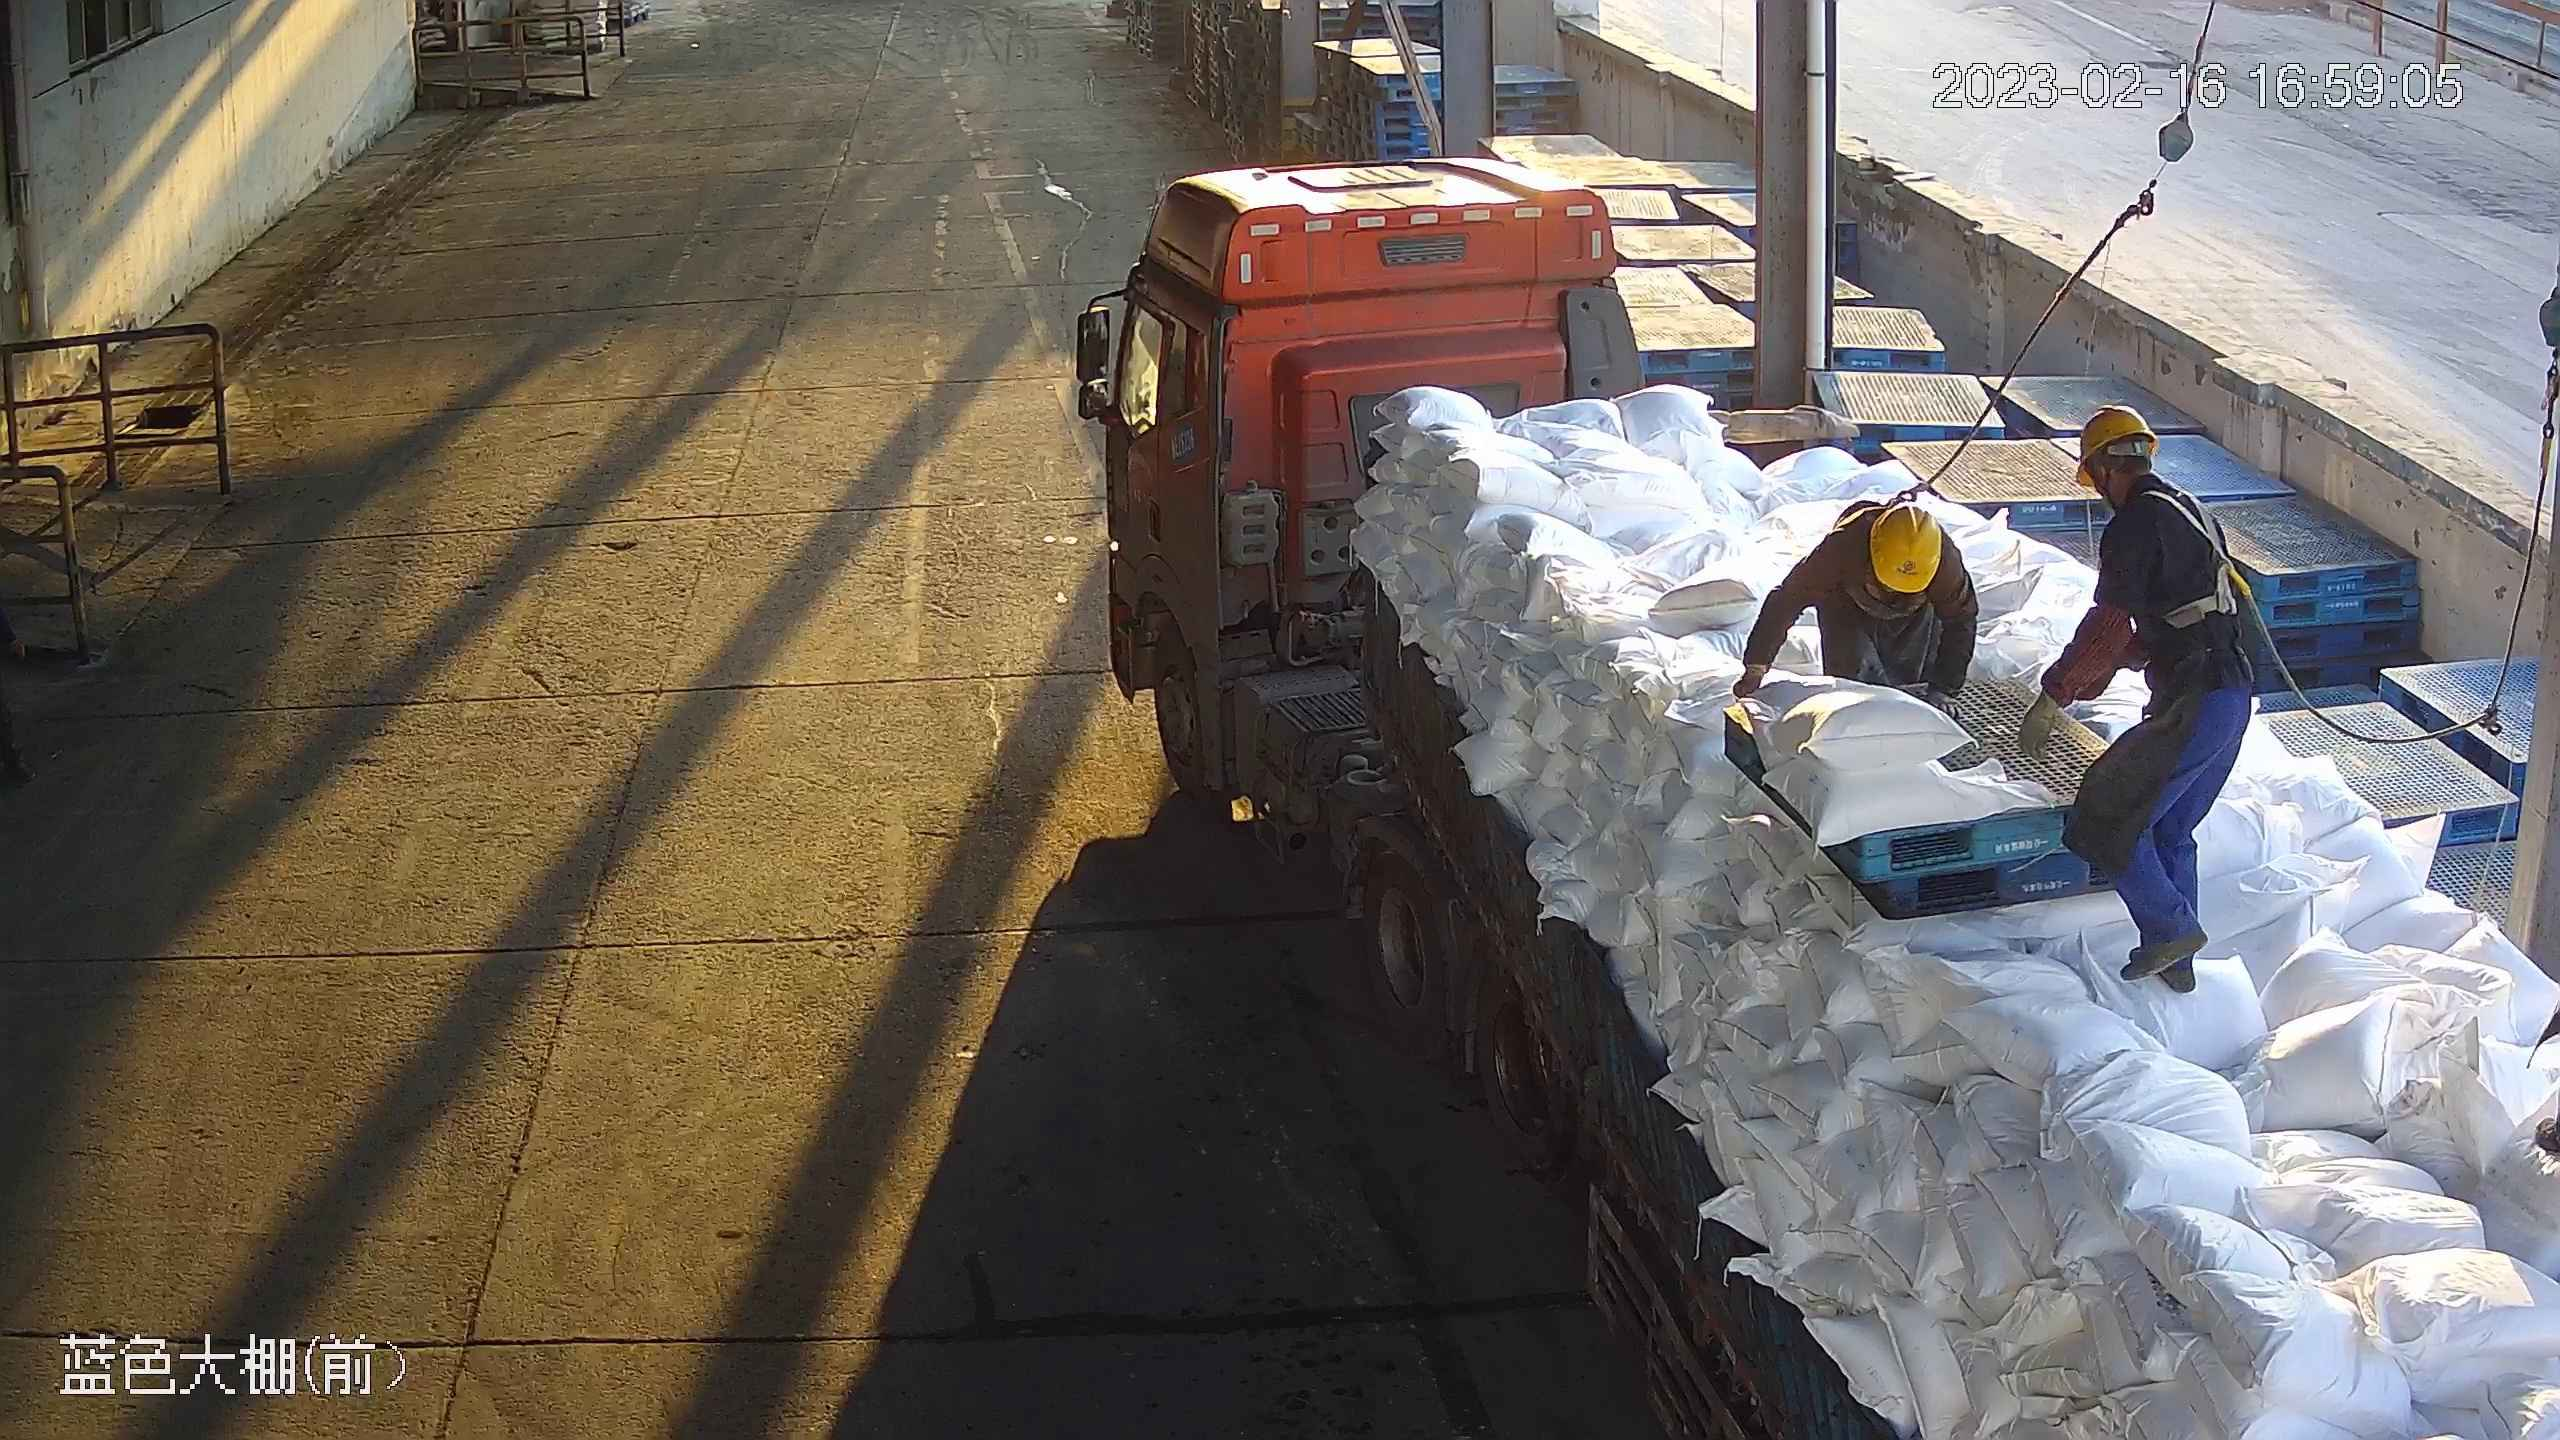belt: (2135, 485, 2258, 632), (1860, 474, 1964, 526)
head: (2069, 404, 2204, 541), (1839, 493, 1956, 601)
helmet: (1862, 508, 1941, 593), (2074, 404, 2155, 485)
people: (2018, 409, 2249, 995), (1723, 495, 1979, 743)
truck: (1072, 155, 2560, 1440)
